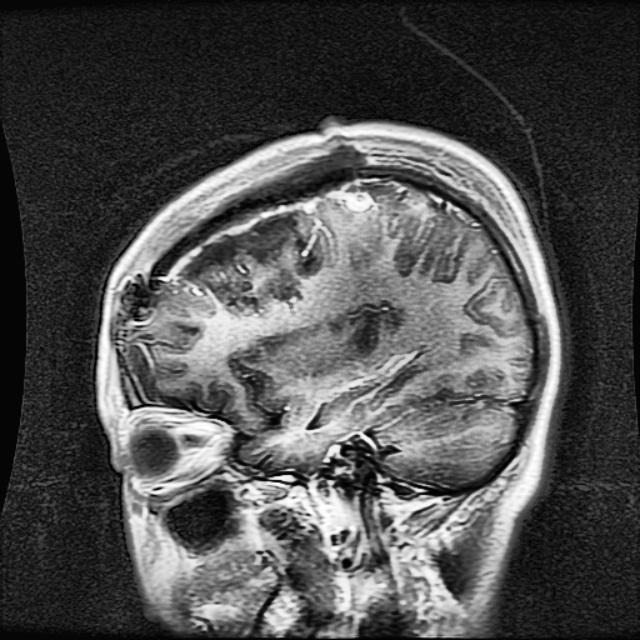Meningioma: (183, 213, 320, 307)
